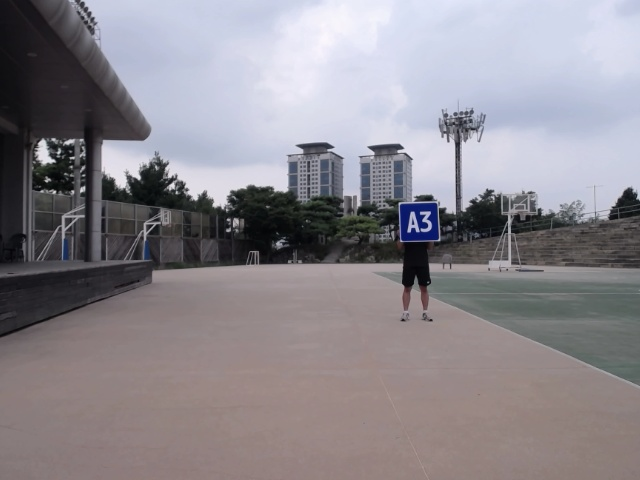delivery_a3: (399, 202, 441, 242)
